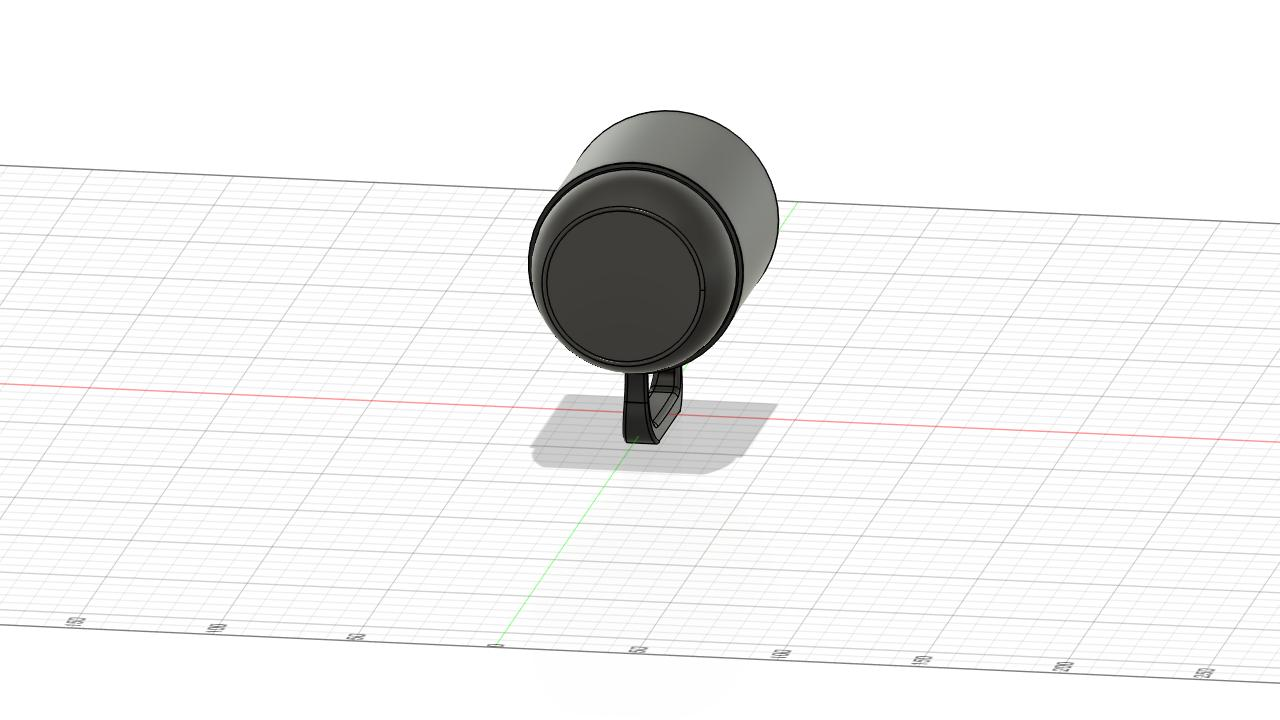mug-real100-3d100: (529, 112, 778, 443)
